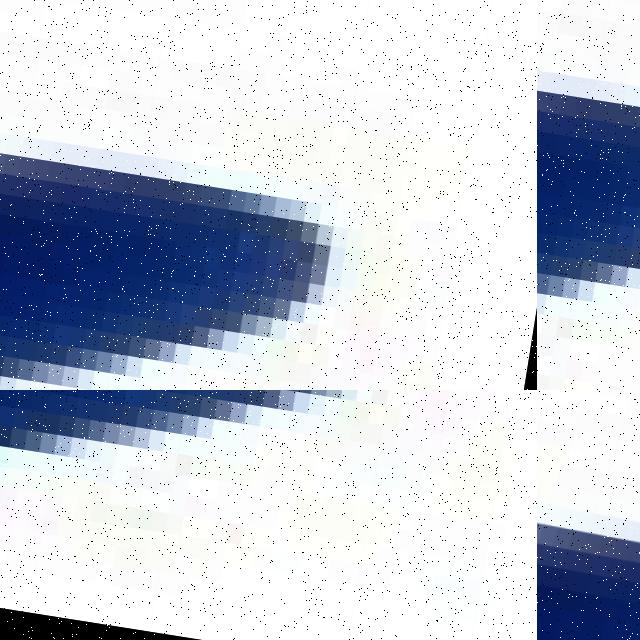drone: (537, 390, 640, 640)
